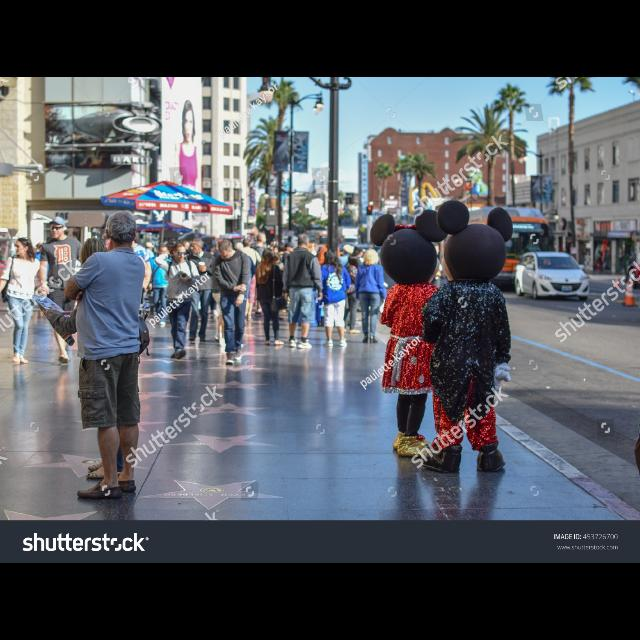head: (104, 210, 138, 248), (82, 239, 108, 269), (50, 219, 66, 239), (218, 241, 234, 261), (15, 238, 31, 256), (190, 238, 204, 256), (172, 244, 185, 262), (324, 250, 338, 264), (158, 244, 170, 260), (298, 234, 310, 248), (365, 250, 377, 264), (262, 250, 274, 262), (342, 244, 353, 256), (257, 233, 267, 244), (242, 238, 252, 248)
person: (43, 235, 153, 480), (62, 209, 148, 505), (38, 216, 96, 366), (0, 236, 50, 365), (154, 242, 200, 362), (212, 240, 254, 368), (284, 232, 324, 352), (181, 237, 219, 346), (254, 247, 288, 347), (318, 248, 352, 348), (354, 248, 388, 344), (336, 244, 366, 334), (148, 244, 176, 328), (235, 239, 263, 323), (251, 232, 273, 318)
